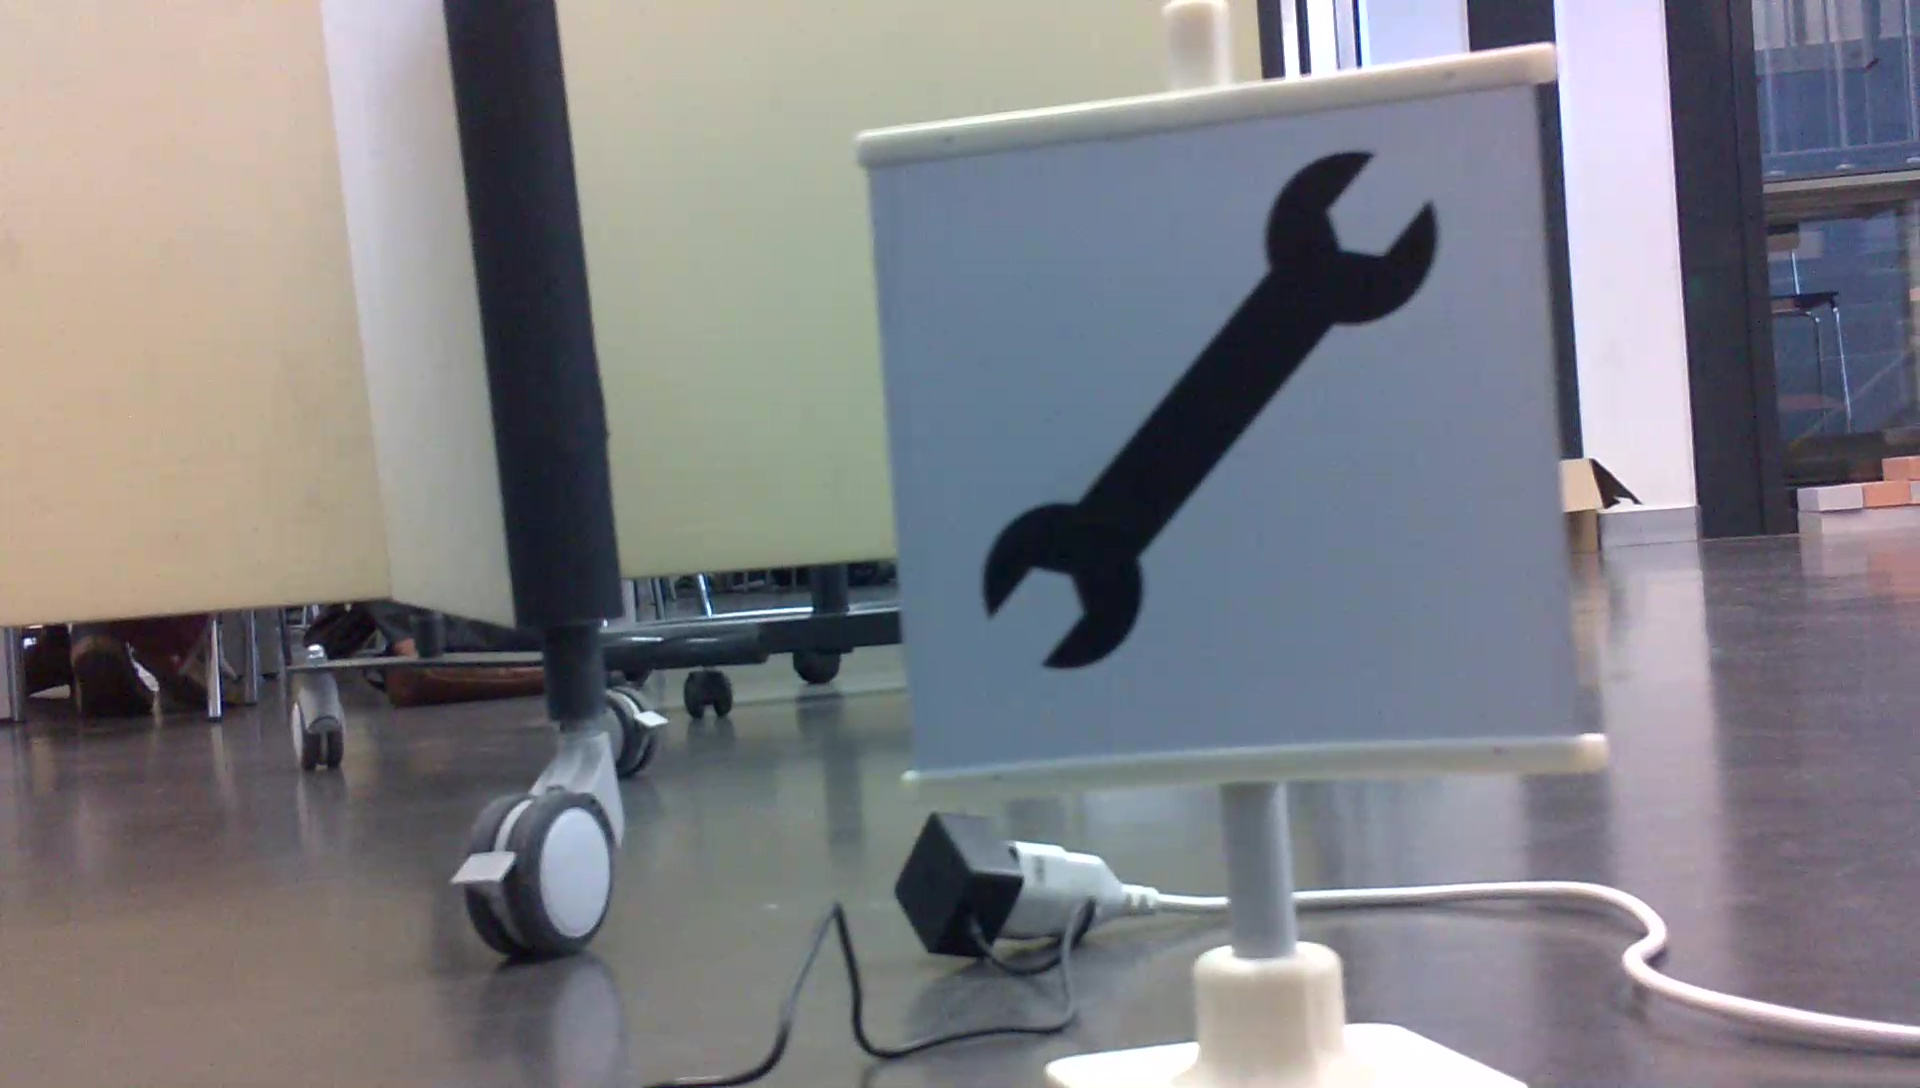wrench: (971, 145, 1455, 680)
